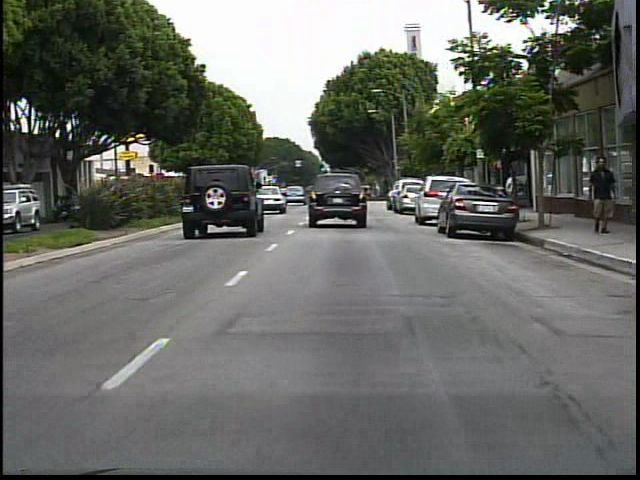person: (582, 153, 621, 240), (500, 164, 523, 218)
